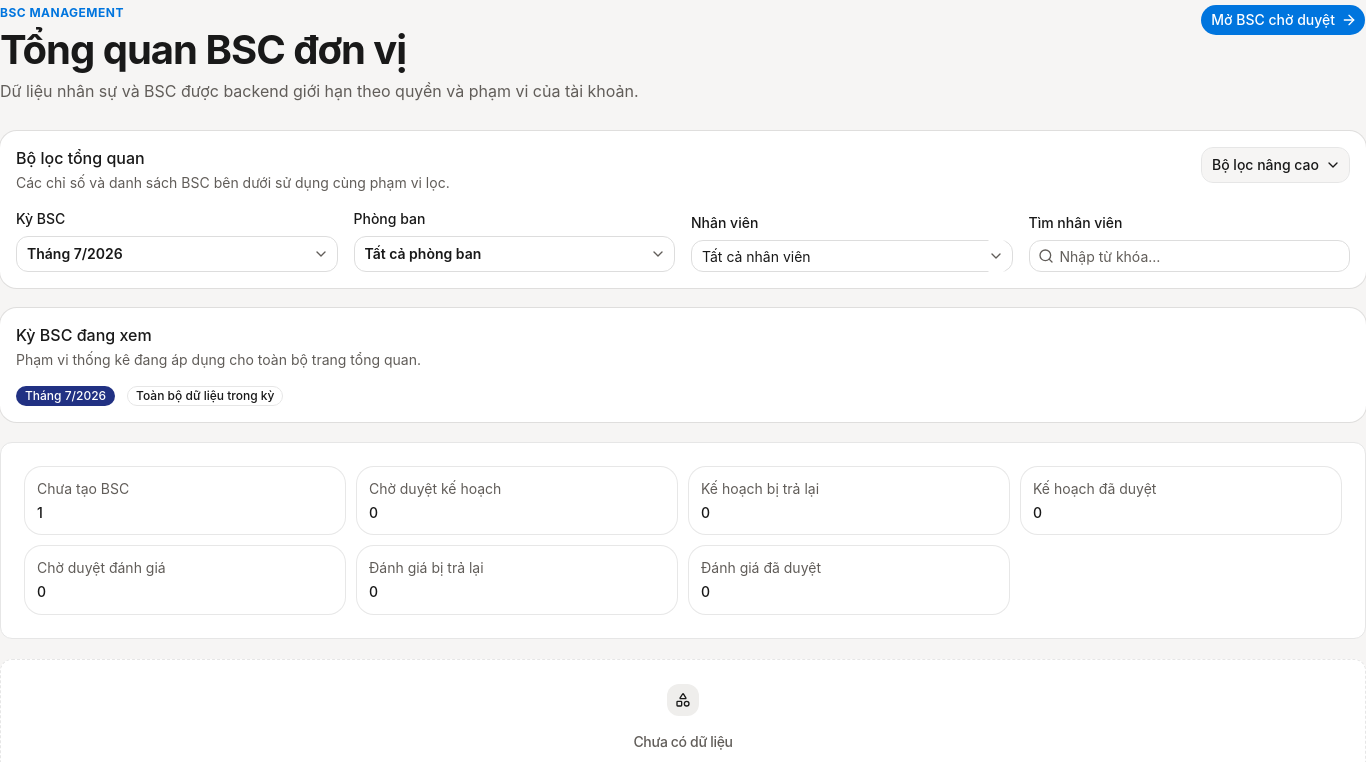
ManagementBscOverviewPage filters › keeps the newest result when an older filtered request finishes later
The width and height of the screenshot is (1366, 762).
Click the dropdown labelled "phòng ban" at (423, 254), box [354,236,675,272]
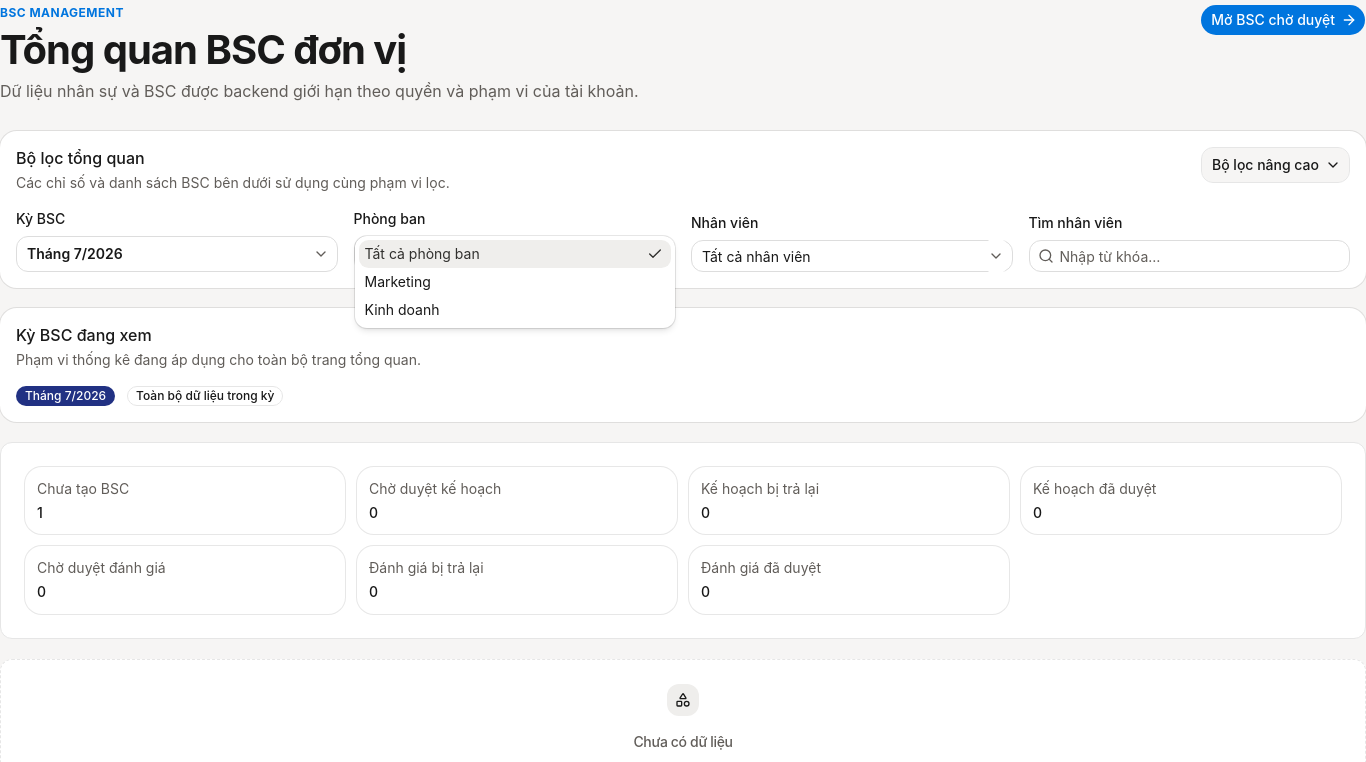
Click the option "Marketing" at (398, 282), box [364,273,431,290]
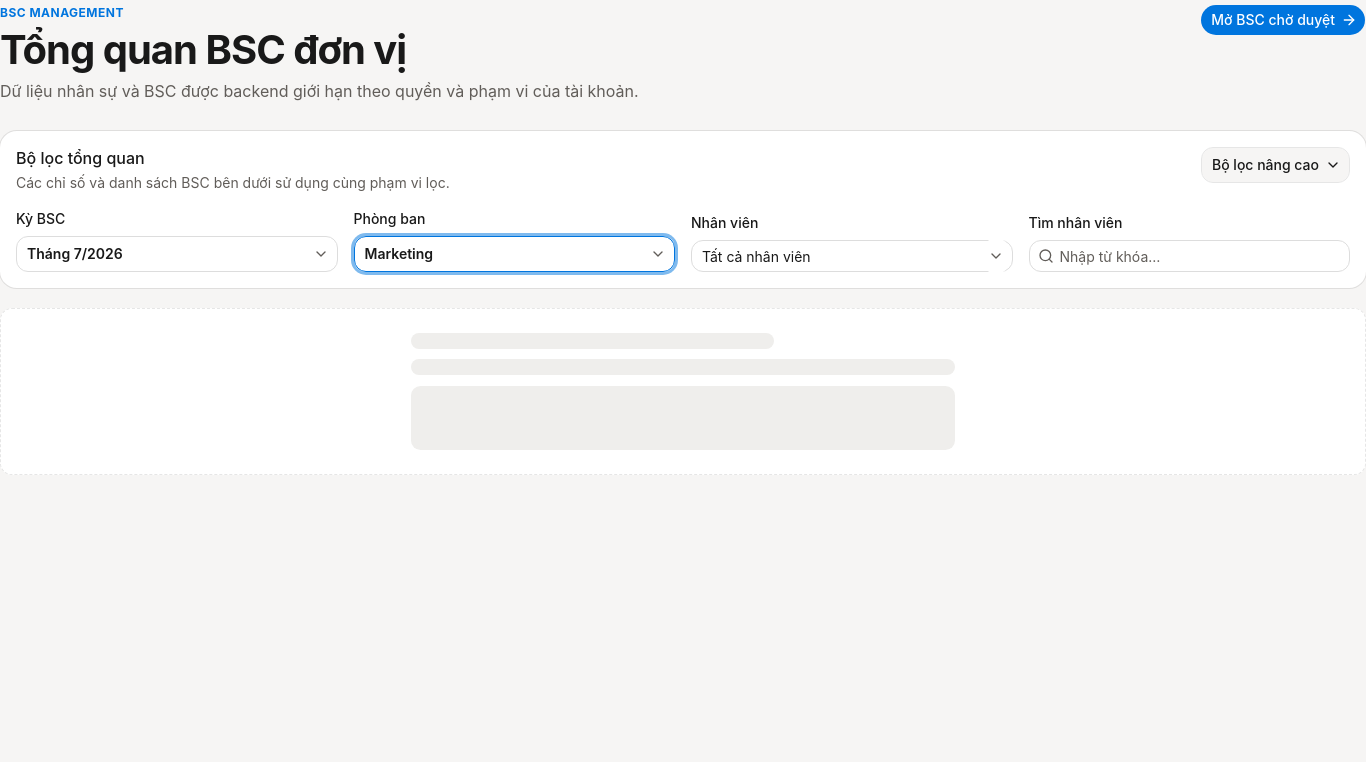
Click the dropdown named "Phòng ban" at (399, 254), box [354,236,675,272]
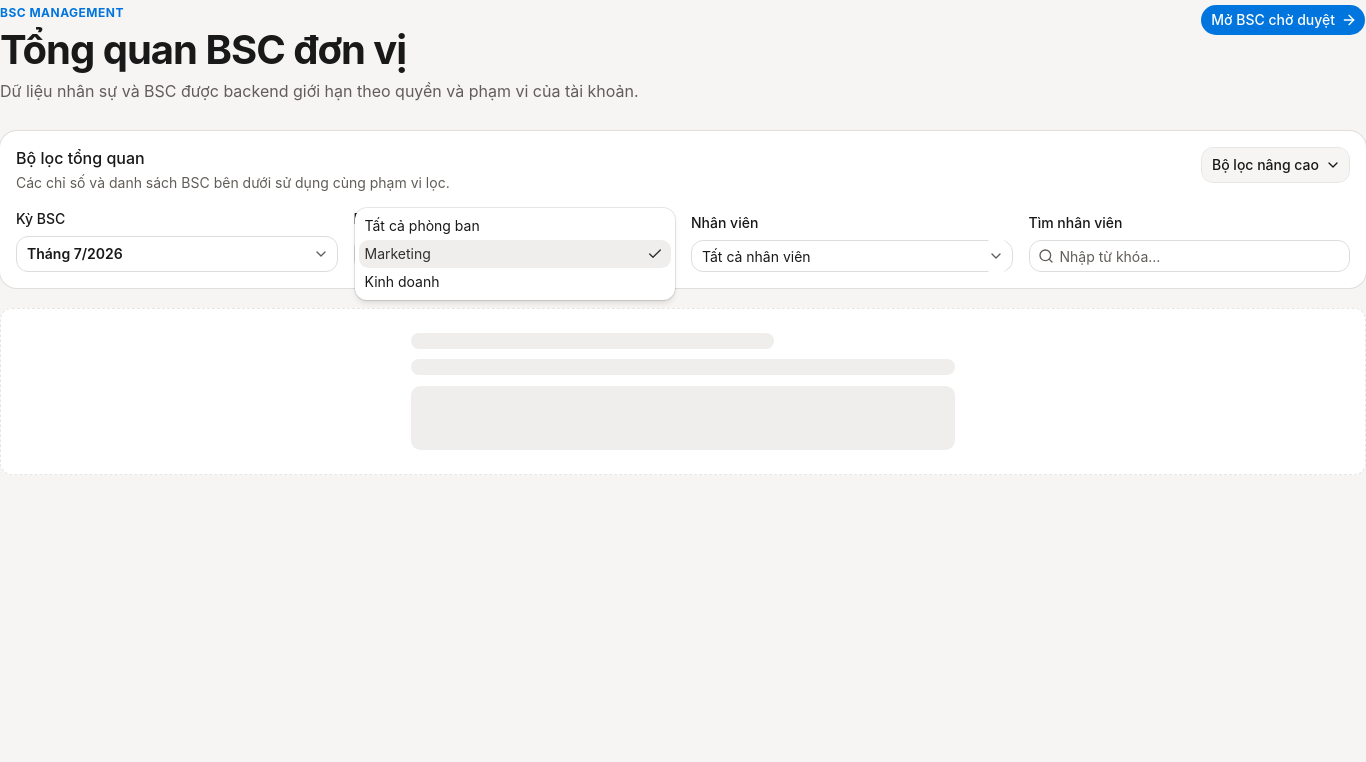
Click the option "Kinh doanh" at (402, 282), box [364,273,440,290]
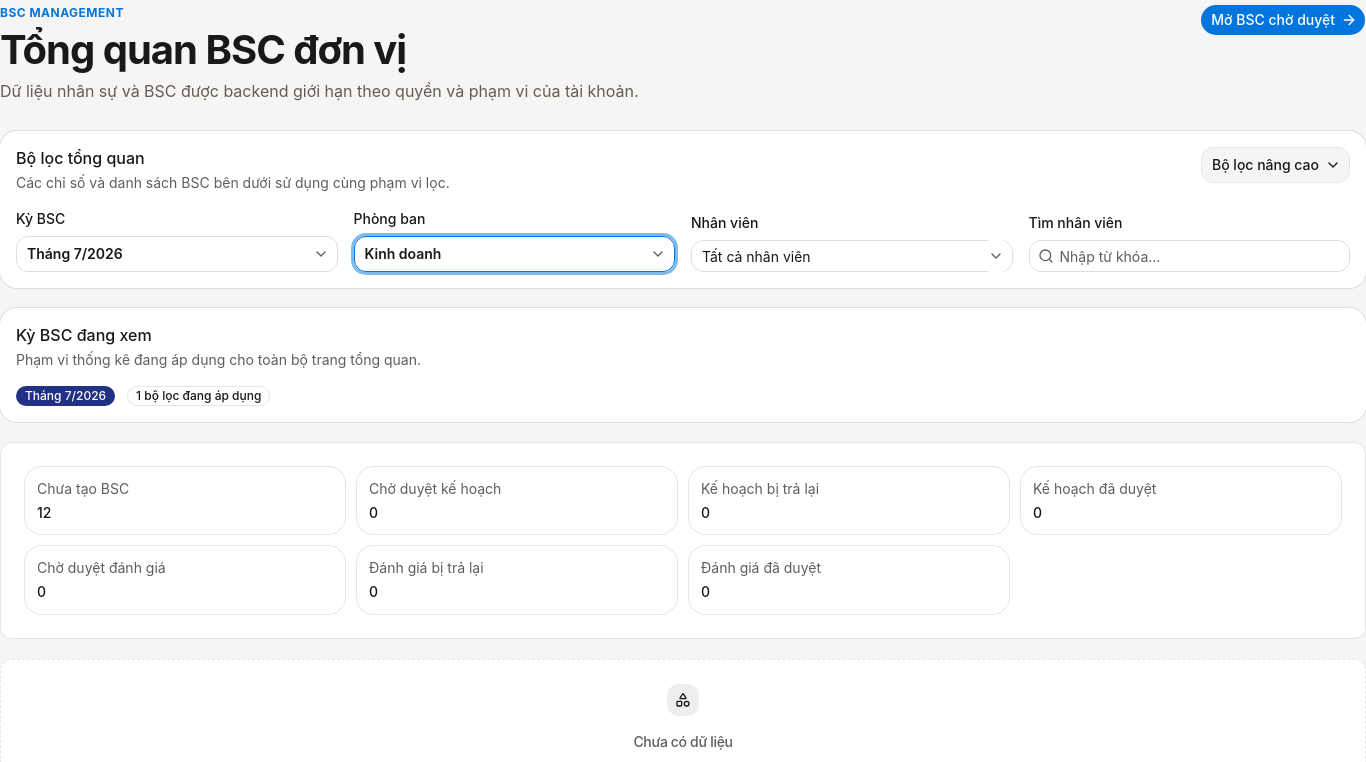
Check: the text "12" is shown, box [37,504,51,521]
